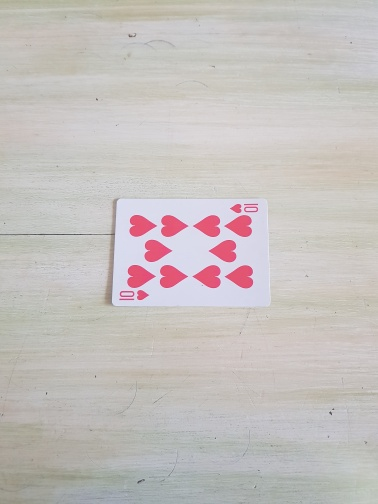ten: (111, 198, 272, 308)
